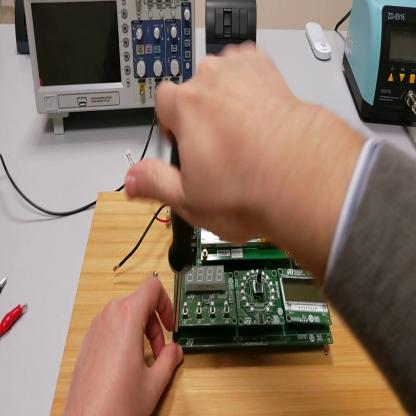hand: (128, 44, 300, 246), (68, 272, 182, 416)
low voltage board: (173, 226, 336, 349)
oscilloscope: (25, 4, 198, 140)
screwdriver-: (168, 135, 198, 342)
socket: (15, 3, 30, 56)
welder station: (343, 2, 416, 129)
working area: (50, 189, 409, 416)
